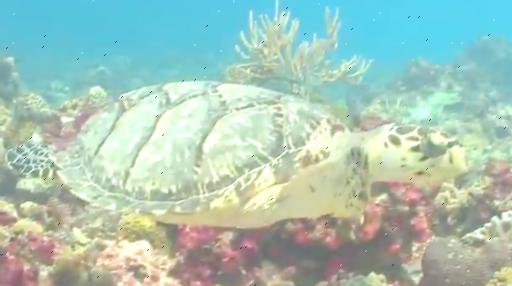Fish: (6, 81, 467, 227)
